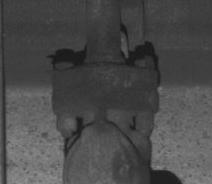Nut_s: (56, 118, 78, 132), (135, 114, 155, 129), (134, 58, 156, 69), (54, 61, 75, 71)
Screw_s: (139, 127, 152, 136), (62, 131, 74, 139)
